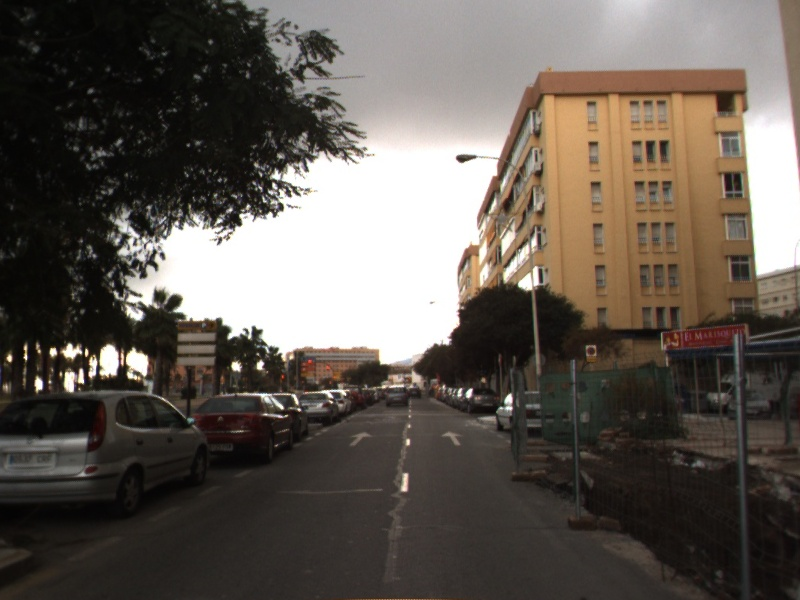STRAIGHT: (348, 430, 375, 447), (440, 430, 464, 447)
